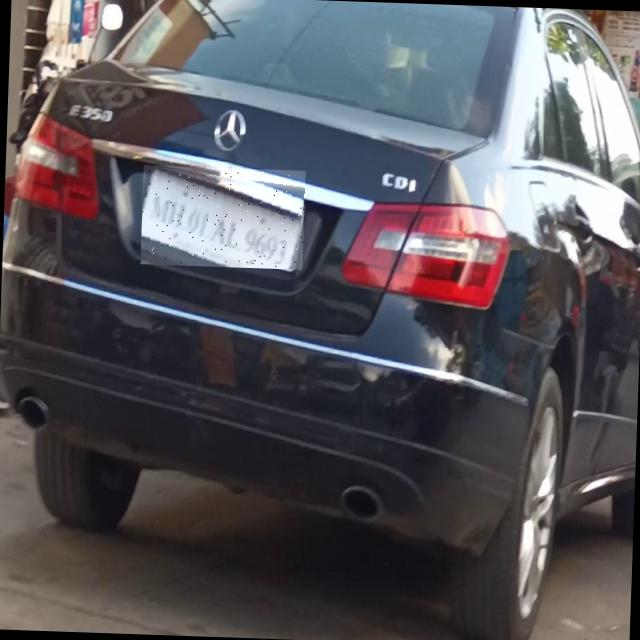Plate: (142, 166, 307, 271)
